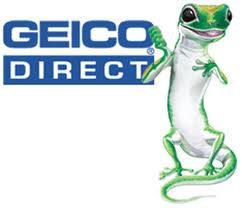geico: (2, 18, 155, 51)
